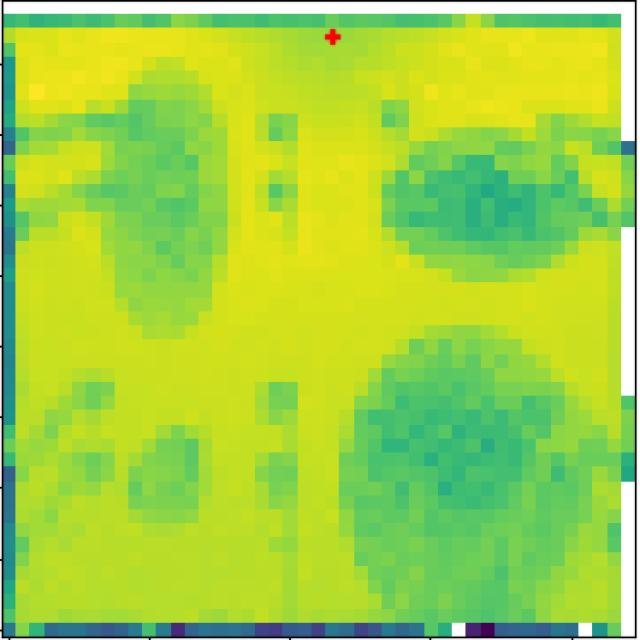Concrete: (133, 424, 210, 521)
Glass: (390, 358, 545, 580)
Metal: (102, 66, 223, 325)
Wood: (424, 130, 574, 264)
